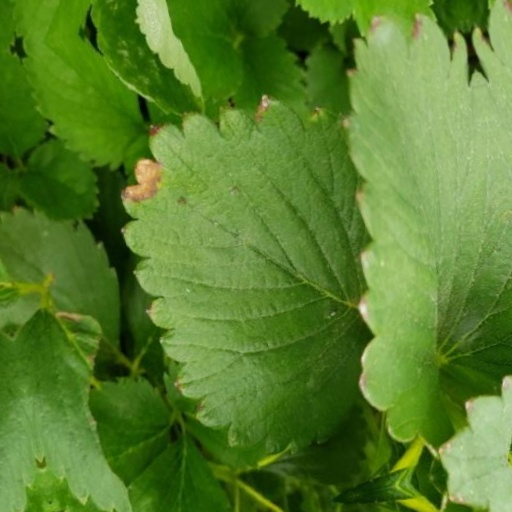Powdery Mildew Leaf: (269, 405, 367, 511)
